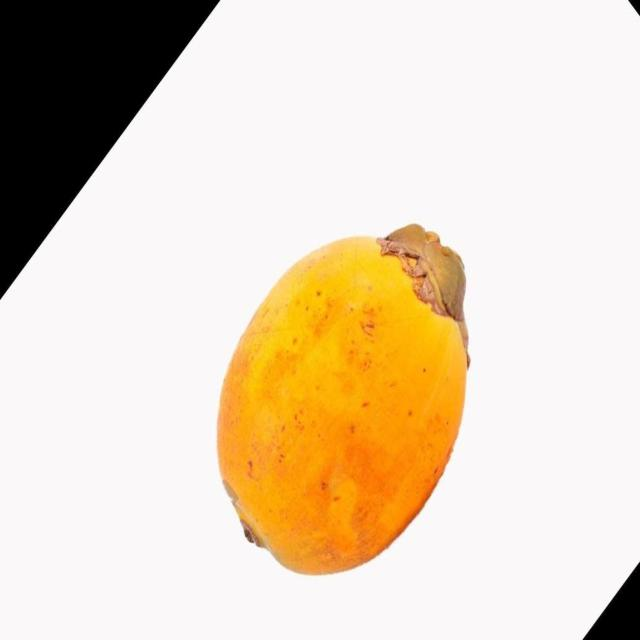good: (215, 225, 470, 578)
